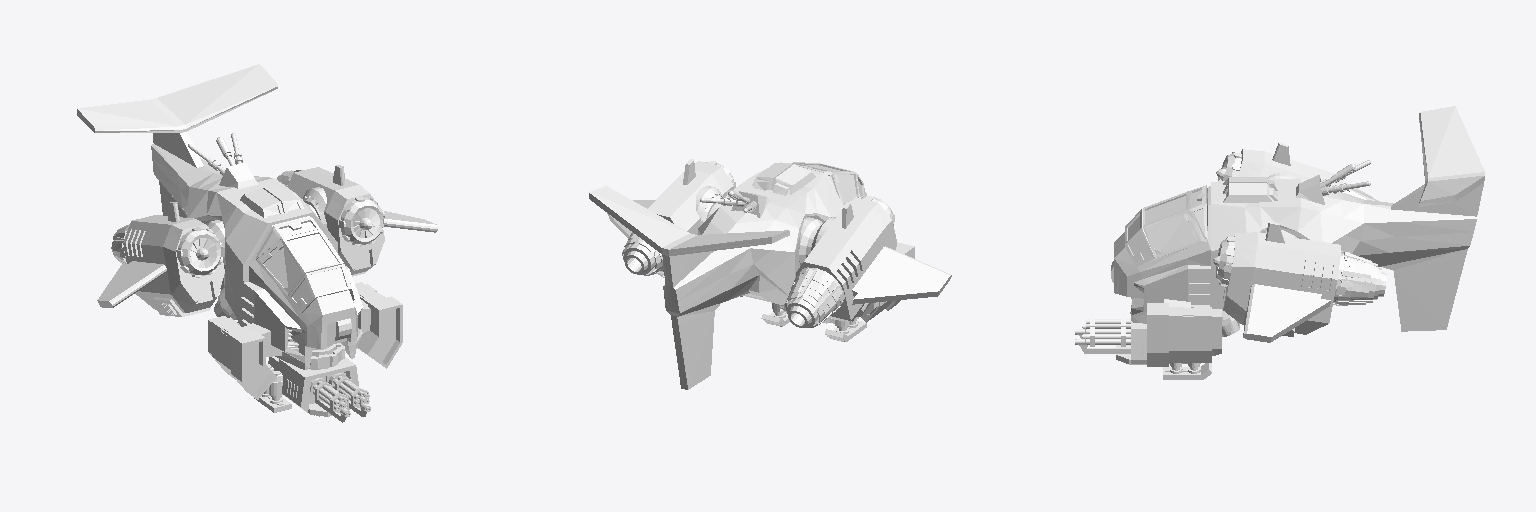
Rendered from LargeEnemy.obj.
3 views of the same model, side by side, from view 1: azimuth 30°, elevation 25°; view 2: azimuth 150°, elevation 25°; view 3: azimuth 270°, elevation 25° (orthographic).
Visible parts, largest first — view 1: StormTalonGame, StormTalonGame.003, StormTalonGame.001; view 2: StormTalonGame, StormTalonGame.003, StormTalonGame.001, StormTalonGame.004; view 3: StormTalonGame, StormTalonGame.001, StormTalonGame.003.
Boxes of the visible parts, x1=… form: StormTalonGame: x1=77, y1=64, x2=402, y2=422; StormTalonGame.003: x1=97, y1=202, x2=224, y2=316; StormTalonGame.001: x1=277, y1=165, x2=437, y2=276; StormTalonGame: x1=589, y1=162, x2=914, y2=389; StormTalonGame.003: x1=785, y1=196, x2=951, y2=327; StormTalonGame.001: x1=607, y1=159, x2=735, y2=277; StormTalonGame.004: x1=799, y1=217, x2=822, y2=265; StormTalonGame: x1=1075, y1=106, x2=1484, y2=379; StormTalonGame.001: x1=1213, y1=222, x2=1386, y2=342; StormTalonGame.003: x1=1216, y1=143, x2=1377, y2=200.
Bounding box in the file's own units: 9.12 × 5.58 × 9.83.